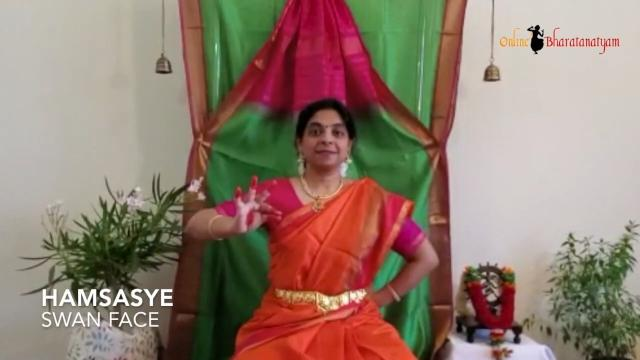hansaasya: (226, 177, 298, 251)
